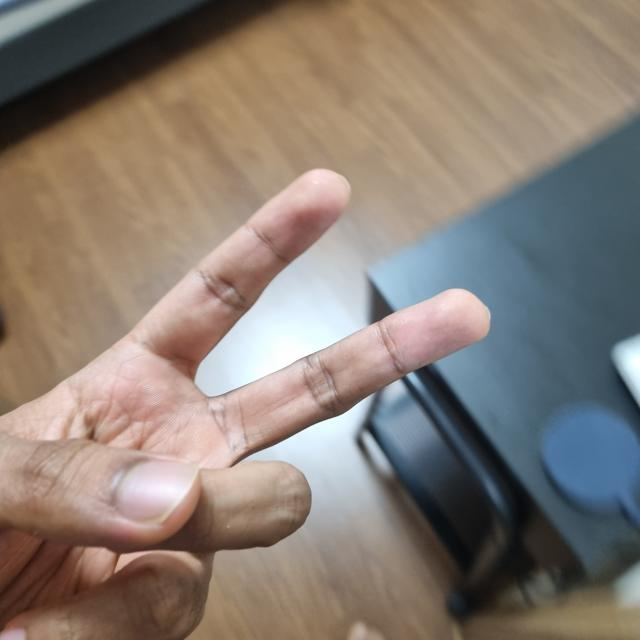Scissors: (1, 170, 485, 640)
